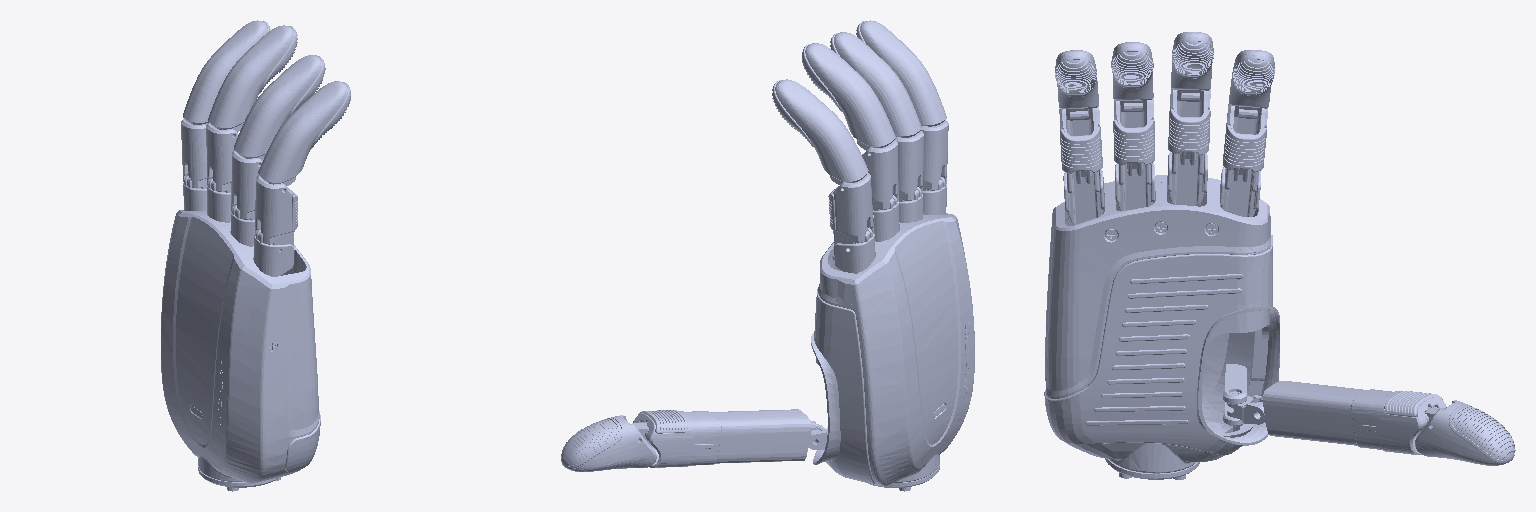
robot.urdf — linkerhand_L6_right:
<?xml version="1.0" encoding="utf-8"?>
<!-- This URDF was automatically created by SolidWorks to URDF Exporter! Originally created by [author] ([email redacted]) 
     Commit Version: 1.6.0-1-g15f4949  Build Version: 1.6.7594.29634
     For more information, please see http://wiki.ros.org/sw_urdf_exporter -->
<robot
  name="linkerhand_L6_right">
  <link
    name="hand_base_link">
    <inertial>
      <origin
        xyz="0.00838418524272372 -0.224496713276236 0.0931513533183361"
        rpy="0 0 0" />
      <mass
        value="0.989012019420379" />
      <inertia
        ixx="0.052849498906634"
        ixy="-0.0027909067775899"
        ixz="6.58371402331654E-05"
        iyy="0.0032299729363114"
        iyz="-0.00487496198496121"
        izz="0.0505605963810597" />
    </inertial>
    <visual>
      <origin
        xyz="0 0 0"
        rpy="0 0 0" />
      <geometry>
        <mesh
          filename="meshes/hand_base_link.STL" />
      </geometry>
      <material
        name="">
        <color
          rgba="0.796078431372549 0.823529411764706 0.937254901960784 1" />
      </material>
    </visual>
    <collision>
      <origin
        xyz="0 0 0"
        rpy="0 0 0" />
      <geometry>
        <mesh
          filename="meshes/hand_base_link.STL" />
      </geometry>
    </collision>
  </link>
  <link
    name="thumb_metacarpals_base1">
    <inertial>
      <origin
        xyz="0.000570920489574543 -0.255308446083395 0.0675232891457053"
        rpy="0 0 0" />
      <mass
        value="0.989012019420379" />
      <inertia
        ixx="0.0528494988884348"
        ixy="-0.00279090693868339"
        ixz="6.58371246110541E-05"
        iyy="0.00322997295449937"
        iyz="-0.00487496198551172"
        izz="0.0505605963810709" />
    </inertial>
    <visual>
      <origin
        xyz="0 0 0"
        rpy="0 0 0" />
      <geometry>
        <mesh
          filename="meshes/thumb_metacarpals_base1.STL" />
      </geometry>
      <material
        name="">
        <color
          rgba="0.796078431372549 0.823529411764706 0.937254901960784 1" />
      </material>
    </visual>
    <collision>
      <origin
        xyz="0 0 0"
        rpy="0 0 0" />
      <geometry>
        <mesh
          filename="meshes/thumb_metacarpals_base1.STL" />
      </geometry>
    </collision>
  </link>
  <joint
    name="thunb_cmc_roll"
    type="revolute">
    <origin
      xyz="0.0078133 0.030812 0.025628"
      rpy="0 0 0" />
    <parent
      link="hand_base_link" />
    <child
      link="thumb_metacarpals_base1" />
    <axis
      xyz="0 0 -1" />
    <limit
      lower="0"
      upper="1.39"
      effort="0"
      velocity="0" />
  </joint>
  <link
    name="thumb_metacarpals">
    <inertial>
      <origin
        xyz="0.147086823573811 -0.0965506900068145 -0.211519357905213"
        rpy="0 0 0" />
      <mass
        value="0.989012019420379" />
      <inertia
        ixx="0.0391477691177366"
        ixy="0.000430833838451486"
        ixz="0.0225358052055657"
        iyy="0.0509877324216965"
        iyz="-0.0010488067847349"
        izz="0.016504566684572" />
    </inertial>
    <visual>
      <origin
        xyz="0 0 0"
        rpy="0 0 0" />
      <geometry>
        <mesh
          filename="meshes/thumb_metacarpals.STL" />
      </geometry>
      <material
        name="">
        <color
          rgba="0.796078431372549 0.823529411764706 0.937254901960784 1" />
      </material>
    </visual>
    <collision>
      <origin
        xyz="0 0 0"
        rpy="0 0 0" />
      <geometry>
        <mesh
          filename="meshes/thumb_metacarpals.STL" />
      </geometry>
    </collision>
  </link>
  <joint
    name="thumb_cmc_pitch"
    type="revolute">
    <origin
      xyz="0.0081692 0.011981 0.00275"
      rpy="-1.4249 0 -0.61087" />
    <parent
      link="thumb_metacarpals_base1" />
    <child
      link="thumb_metacarpals" />
    <axis
      xyz="1 0 0" />
    <limit
      lower="0"
      upper="0.99"
      effort="0"
      velocity="0" />
  </joint>
  <link
    name="thumb_distal">
    <inertial>
      <origin
        xyz="0.147086823573827 -0.0904506900067858 -0.294219357905227"
        rpy="0 0 0" />
      <mass
        value="0.989012019420379" />
      <inertia
        ixx="0.0391477691177344"
        ixy="0.000430833838450907"
        ixz="0.0225358052055668"
        iyy="0.0509877324216966"
        iyz="-0.0010488067847338"
        izz="0.0165045666845742" />
    </inertial>
    <visual>
      <origin
        xyz="0 0 0"
        rpy="0 0 0" />
      <geometry>
        <mesh
          filename="meshes/thumb_distal.STL" />
      </geometry>
      <material
        name="">
        <color
          rgba="0.796078431372549 0.823529411764706 0.937254901960784 1" />
      </material>
    </visual>
    <collision>
      <origin
        xyz="0 0 0"
        rpy="0 0 0" />
      <geometry>
        <mesh
          filename="meshes/thumb_distal.STL" />
      </geometry>
    </collision>
  </link>
  <joint
    name="thumb_ip"
    type="revolute">
    <origin
      xyz="0 -0.0061 0.0827"
      rpy="0 0 0" />
    <parent
      link="thumb_metacarpals" />
    <child
      link="thumb_distal" />
    <axis
      xyz="1 0 0" />
    <limit
      lower="0"
      upper="1.22"
      effort="0"
      velocity="0" />
    <mimic
      joint="thumb_cmc_pitch"
      multiplier="2.22"
      offset="0" />
  </joint>
  <link
    name="index_proximal">
    <inertial>
      <origin
        xyz="0.00905239688154501 -0.254553508667785 -0.0453483793523921"
        rpy="0 0 0" />
      <mass
        value="0.989012019420379" />
      <inertia
        ixx="0.0528494989066404"
        ixy="-0.00278602461949438"
        ixz="-0.000177656943093464"
        iyy="0.00443603046195985"
        iyz="-0.00891033861304757"
        izz="0.0493545388554049" />
    </inertial>
    <visual>
      <origin
        xyz="0 0 0"
        rpy="0 0 0" />
      <geometry>
        <mesh
          filename="meshes/index_proximal.STL" />
      </geometry>
      <material
        name="">
        <color
          rgba="0.796078431372549 0.823529411764706 0.937254901960784 1" />
      </material>
    </visual>
    <collision>
      <origin
        xyz="0 0 0"
        rpy="0 0 0" />
      <geometry>
        <mesh
          filename="meshes/index_proximal.STL" />
      </geometry>
    </collision>
  </link>
  <joint
    name="index_mcp_pitch"
    type="revolute">
    <origin
      xyz="-0.00066821 0.033041 0.11614"
      rpy="-0.087266 0 0" />
    <parent
      link="hand_base_link" />
    <child
      link="index_proximal" />
    <axis
      xyz="0 1 0" />
    <limit
      lower="0"
      upper="1.26"
      effort="0"
      velocity="0" />
  </joint>
  <link
    name="index_distal">
    <inertial>
      <origin
        xyz="0.00784285830873915 -0.254553508667734 -0.0733401105678903"
        rpy="0 0 0" />
      <mass
        value="0.989012019420379" />
      <inertia
        ixx="0.0528494989066404"
        ixy="-0.00278602461949438"
        ixz="-0.000177656943093397"
        iyy="0.00443603046195943"
        iyz="-0.00891033861304652"
        izz="0.0493545388554053" />
    </inertial>
    <visual>
      <origin
        xyz="0 0 0"
        rpy="0 0 0" />
      <geometry>
        <mesh
          filename="meshes/index_distal.STL" />
      </geometry>
      <material
        name="">
        <color
          rgba="0.796078431372549 0.823529411764706 0.937254901960784 1" />
      </material>
    </visual>
    <collision>
      <origin
        xyz="0 0 0"
        rpy="0 0 0" />
      <geometry>
        <mesh
          filename="meshes/index_distal.STL" />
      </geometry>
    </collision>
  </link>
  <joint
    name="index_dip"
    type="revolute">
    <origin
      xyz="0.0012095 0 0.027992"
      rpy="0 0 0" />
    <parent
      link="index_proximal" />
    <child
      link="index_distal" />
    <axis
      xyz="0 1 0" />
    <limit
      lower="0"
      upper="1.14"
      effort="0"
      velocity="0" />
    <mimic
      joint="index_mcp_pitch"
      multiplier="1.9"
      offset="0" />
  </joint>
  <link
    name="middle_proximal">
    <inertial>
      <origin
        xyz="0.0090523968816873 -0.236512205395635 -0.0379613055090531"
        rpy="0 0 0" />
      <mass
        value="0.989012019420379" />
      <inertia
        ixx="0.0528494989066417"
        ixy="-0.00279150431557944"
        ixz="-3.16042078463119E-05"
        iyy="0.00362768060395252"
        iyz="-0.00651389551838884"
        izz="0.0501628887134109" />
    </inertial>
    <visual>
      <origin
        xyz="0 0 0"
        rpy="0 0 0" />
      <geometry>
        <mesh
          filename="meshes/middle_proximal.STL" />
      </geometry>
      <material
        name="">
        <color
          rgba="0.796078431372549 0.823529411764706 0.937254901960784 1" />
      </material>
    </visual>
    <collision>
      <origin
        xyz="0 0 0"
        rpy="0 0 0" />
      <geometry>
        <mesh
          filename="meshes/middle_proximal.STL" />
      </geometry>
    </collision>
  </link>
  <joint
    name="middle_mcp_pitch"
    type="revolute">
    <origin
      xyz="-0.00066821 0.013196 0.12284"
      rpy="-0.034907 0 0" />
    <parent
      link="hand_base_link" />
    <child
      link="middle_proximal" />
    <axis
      xyz="0 1 0" />
    <limit
      lower="0"
      upper="1.26"
      effort="0"
      velocity="0" />
  </joint>
  <link
    name="middle_distal">
    <inertial>
      <origin
        xyz="0.00811649853431994 -0.23651220539562 -0.0659635213907068"
        rpy="0 0 0" />
      <mass
        value="0.989012019420379" />
      <inertia
        ixx="0.0528494989066518"
        ixy="-0.00279150431549044"
        ixz="-3.16042078345341E-05"
        iyy="0.00362768060394243"
        iyz="-0.0065138955183889"
        izz="0.0501628887134109" />
    </inertial>
    <visual>
      <origin
        xyz="0 0 0"
        rpy="0 0 0" />
      <geometry>
        <mesh
          filename="meshes/middle_distal.STL" />
      </geometry>
      <material
        name="">
        <color
          rgba="0.796078431372549 0.823529411764706 0.937254901960784 1" />
      </material>
    </visual>
    <collision>
      <origin
        xyz="0 0 0"
        rpy="0 0 0" />
      <geometry>
        <mesh
          filename="meshes/middle_distal.STL" />
      </geometry>
    </collision>
  </link>
  <joint
    name="middle_dip"
    type="revolute">
    <origin
      xyz="0.0009359 0 0.028002"
      rpy="0 0 0" />
    <parent
      link="middle_proximal" />
    <child
      link="middle_distal" />
    <axis
      xyz="0 1 0" />
    <limit
      lower="0"
      upper="1.14"
      effort="0"
      velocity="0" />
    <mimic
      joint="middle_mcp_pitch"
      multiplier="1.9"
      offset="0" />
  </joint>
  <link
    name="ring_proximal">
    <inertial>
      <origin
        xyz="0.00909532451243778 -0.218320388068121 -0.0215667243893432"
        rpy="0 0 0" />
      <mass
        value="0.989012019420379" />
      <inertia
        ixx="0.0528504615901518"
        ixy="-0.00278078499499511"
        ixz="0.00011521364285771"
        iyy="0.00307329487175093"
        iyz="-0.00404603980175375"
        izz="0.0507163117621023" />
    </inertial>
    <visual>
      <origin
        xyz="0 0 0"
        rpy="0 0 0" />
      <geometry>
        <mesh
          filename="meshes/ring_proximal.STL" />
      </geometry>
      <material
        name="">
        <color
          rgba="0.796078431372549 0.823529411764706 0.937254901960784 1" />
      </material>
    </visual>
    <collision>
      <origin
        xyz="0 0 0"
        rpy="0 0 0" />
      <geometry>
        <mesh
          filename="meshes/ring_proximal.STL" />
      </geometry>
    </collision>
  </link>
  <joint
    name="ring_mcp_pitch"
    type="revolute">
    <origin
      xyz="-0.00067368 -0.0065844 0.11852"
      rpy="0.017453 0 -0.00017259" />
    <parent
      link="hand_base_link" />
    <child
      link="ring_proximal" />
    <axis
      xyz="-0.00017246 1 0" />
    <limit
      lower="0"
      upper="1.26"
      effort="0"
      velocity="0" />
  </joint>
  <link
    name="ring_distal">
    <inertial>
      <origin
        xyz="0.00815942617851899 -0.218320549470512 -0.0495689402710123"
        rpy="0 0 0" />
      <mass
        value="0.989012019420379" />
      <inertia
        ixx="0.0528504615901518"
        ixy="-0.00278078499499511"
        ixz="0.00011521364285771"
        iyy="0.00307329487175093"
        iyz="-0.00404603980175375"
        izz="0.0507163117621023" />
    </inertial>
    <visual>
      <origin
        xyz="0 0 0"
        rpy="0 0 0" />
      <geometry>
        <mesh
          filename="meshes/ring_distal.STL" />
      </geometry>
      <material
        name="">
        <color
          rgba="0.796078431372549 0.823529411764706 0.937254901960784 1" />
      </material>
    </visual>
    <collision>
      <origin
        xyz="0 0 0"
        rpy="0 0 0" />
      <geometry>
        <mesh
          filename="meshes/ring_distal.STL" />
      </geometry>
    </collision>
  </link>
  <joint
    name="ring_dip"
    type="revolute">
    <origin
      xyz="0.0009359 0 0.028002"
      rpy="0 0 0" />
    <parent
      link="ring_proximal" />
    <child
      link="ring_distal" />
    <axis
      xyz="0.00017246 1 0" />
    <limit
      lower="0"
      upper="1.14"
      effort="0"
      velocity="0" />
    <mimic
      joint="ring_mcp_pitch"
      multiplier="1.9"
      offset="0" />
  </joint>
  <link
    name="pinky_proximal">
    <inertial>
      <origin
        xyz="0.00908321923990582 -0.199568896623511 -0.0116288042893302"
        rpy="0 0 0" />
      <mass
        value="0.989012019420379" />
      <inertia
        ixx="0.0528500773384194"
        ixy="-0.00277849244751983"
        ixz="0.000212039736408727"
        iyy="0.00284946710210617"
        iyz="-0.00237451071491717"
        izz="0.0509405237834795" />
    </inertial>
    <visual>
      <origin
        xyz="0 0 0"
        rpy="0 0 0" />
      <geometry>
        <mesh
          filename="meshes/pinky_proximal.STL" />
      </geometry>
      <material
        name="">
        <color
          rgba="0.796078431372549 0.823529411764706 0.937254901960784 1" />
      </material>
    </visual>
    <collision>
      <origin
        xyz="0 0 0"
        rpy="0 0 0" />
      <geometry>
        <mesh
          filename="meshes/pinky_proximal.STL" />
      </geometry>
    </collision>
  </link>
  <joint
    name="pinky_mcp_pitch"
    type="revolute">
    <origin
      xyz="-0.00067852 -0.025809 0.11521"
      rpy="0.05236 0 -0.00010364" />
    <parent
      link="hand_base_link" />
    <child
      link="pinky_proximal" />
    <axis
      xyz="-0.00010331 1 0" />
    <limit
      lower="0"
      upper="1.26"
      effort="0"
      velocity="0" />
  </joint>
  <link
    name="pinky_distal">
    <inertial>
      <origin
        xyz="0.00814732089709535 -0.199568993307331 -0.0396310201709429"
        rpy="0 0 0" />
      <mass
        value="0.989012019420379" />
      <inertia
        ixx="0.0528500773384194"
        ixy="-0.00277849244751983"
        ixz="0.000212039736408727"
        iyy="0.00284946710210617"
        iyz="-0.00237451071491717"
        izz="0.0509405237834795" />
    </inertial>
    <visual>
      <origin
        xyz="0 0 0"
        rpy="0 0 0" />
      <geometry>
        <mesh
          filename="meshes/pinky_distal.STL" />
      </geometry>
      <material
        name="">
        <color
          rgba="0.796078431372549 0.823529411764706 0.937254901960784 1" />
      </material>
    </visual>
    <collision>
      <origin
        xyz="0 0 0"
        rpy="0 0 0" />
      <geometry>
        <mesh
          filename="meshes/pinky_distal.STL" />
      </geometry>
    </collision>
  </link>
  <joint
    name="pinky_dip"
    type="revolute">
    <origin
      xyz="0.0009359 0 0.028002"
      rpy="0 0 0" />
    <parent
      link="pinky_proximal" />
    <child
      link="pinky_distal" />
    <axis
      xyz="0.00010331 1 0" />
    <limit
      lower="0"
      upper="1.14"
      effort="0"
      velocity="0" />
    <mimic
      joint="pinky_mcp_pitch"
      multiplier="1.9"
      offset="0" />
  </joint>
</robot>

--- Facts derived from the render (not from the file) ---
3 views of the same robot in one strip: view 1: azimuth 30°, elevation 25°; view 2: azimuth 150°, elevation 25°; view 3: azimuth 270°, elevation 25° (orthographic).
Model linkerhand_L6_right with 12 links and 11 joints (11 revolute), rooted at hand_base_link, posed every joint at zero.
Visible links, largest first — view 1: hand_base_link, pinky_distal, middle_distal, ring_distal, index_distal, pinky_proximal, middle_proximal, ring_proximal, index_proximal; view 2: hand_base_link, thumb_metacarpals, index_distal, middle_distal, thumb_distal, ring_distal, pinky_distal, index_proximal, middle_proximal, ring_proximal, pinky_proximal; view 3: hand_base_link, thumb_metacarpals, thumb_distal, pinky_distal, middle_distal, ring_distal, index_distal, ring_proximal, pinky_proximal, index_proximal, middle_proximal, thumb_metacarpals_base1.
Link boxes in pixels (box(x1,y1,x2,y2)): hand_base_link: box(161, 176, 320, 491); pinky_distal: box(258, 81, 350, 185); middle_distal: box(208, 25, 297, 135); ring_distal: box(234, 55, 325, 160); index_distal: box(183, 20, 270, 124); pinky_proximal: box(255, 175, 297, 250); middle_proximal: box(206, 123, 238, 192); ring_proximal: box(231, 150, 262, 220); index_proximal: box(181, 119, 206, 188); hand_base_link: box(811, 177, 974, 491); thumb_metacarpals: box(629, 409, 818, 467); index_distal: box(772, 79, 868, 184); middle_distal: box(802, 43, 895, 149); thumb_distal: box(561, 415, 656, 471); ring_distal: box(830, 32, 921, 137); pinky_distal: box(856, 20, 946, 126); index_proximal: box(828, 173, 873, 249); middle_proximal: box(862, 140, 898, 216); ring_proximal: box(895, 131, 923, 201); pinky_proximal: box(921, 120, 948, 190); hand_base_link: box(1044, 152, 1279, 479); thumb_metacarpals: box(1258, 381, 1446, 454); thumb_distal: box(1415, 400, 1515, 465); pinky_distal: box(1055, 50, 1098, 120); middle_distal: box(1171, 32, 1213, 101); ring_distal: box(1111, 42, 1153, 112); index_distal: box(1229, 50, 1274, 119); ring_proximal: box(1113, 99, 1154, 184); pinky_proximal: box(1059, 106, 1102, 193); index_proximal: box(1223, 104, 1267, 191); middle_proximal: box(1168, 88, 1210, 174); thumb_metacarpals_base1: box(1227, 391, 1265, 424).
Size in the robot's own frame: 0.1057 by 0.1761 by 0.193 metres.
12 mesh visuals loaded from 12 distinct referenced files (12 binary STL).